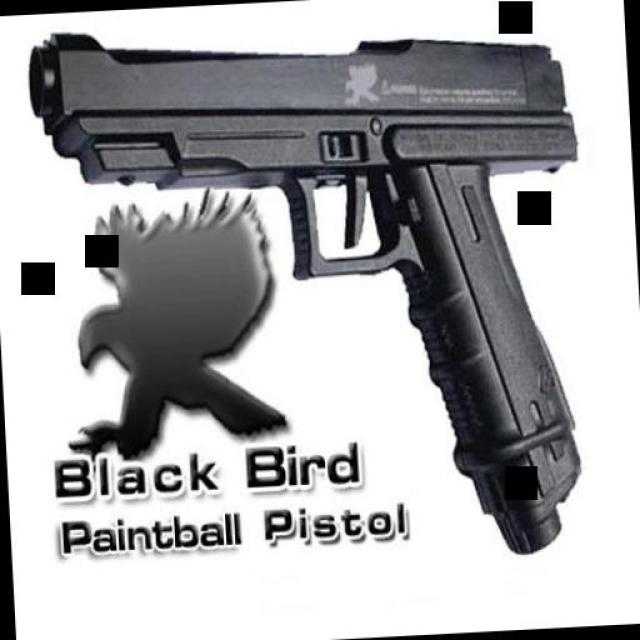gun: (24, 2, 598, 578)
